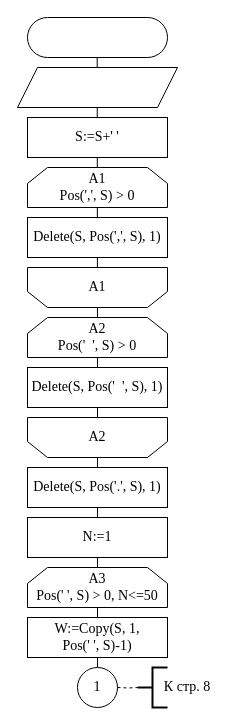
Some shapes in this 235 by 726 pixel diagram are drawn without their labels. Each missing label, with the centre of its shape:
"Ввод S" belongs at (x=97, y=87).
"Вход" belongs at (x=97, y=37).
